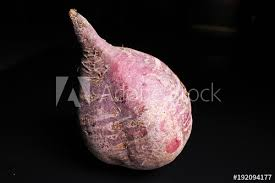beet: (70, 9, 193, 168)
